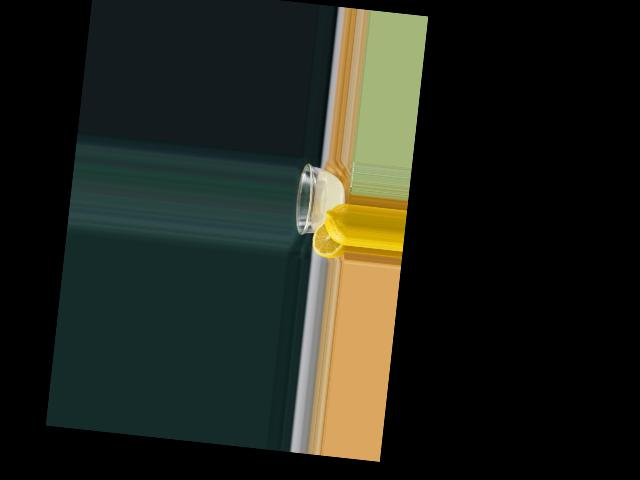lemon: (310, 201, 351, 257)
